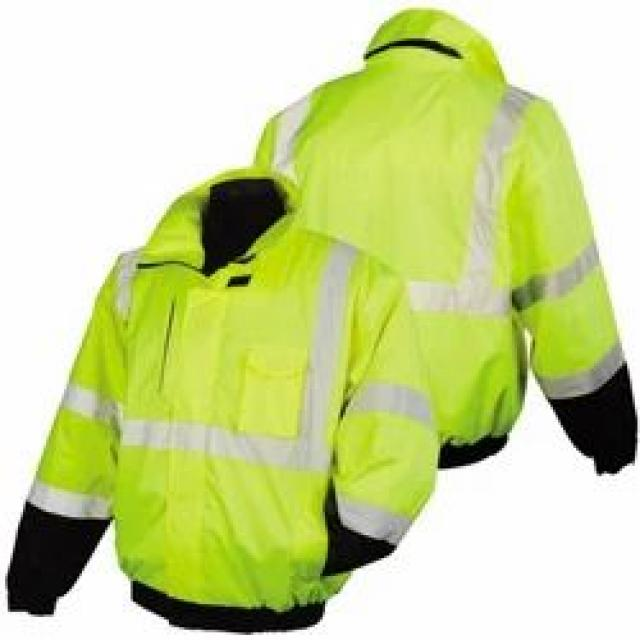Reflective-Jacket: (20, 20, 638, 630)
